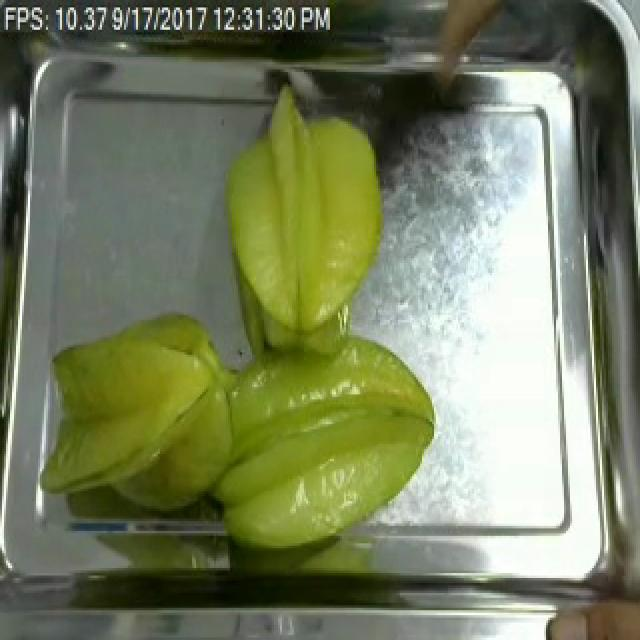fruit: (194, 328, 444, 563), (208, 85, 396, 348), (30, 303, 232, 526)
